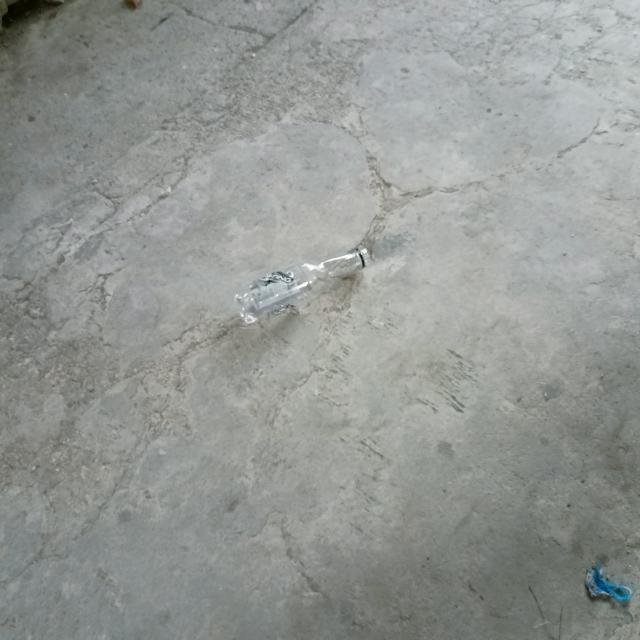Bottle: (235, 247, 371, 324)
